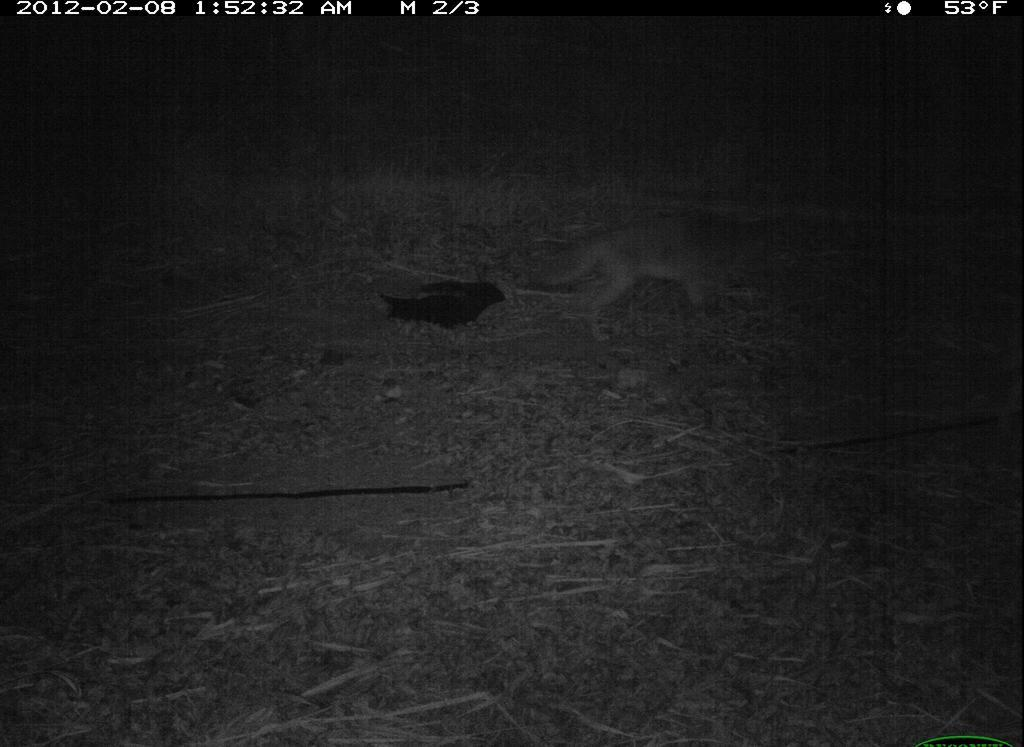coyote: (525, 208, 795, 349)
